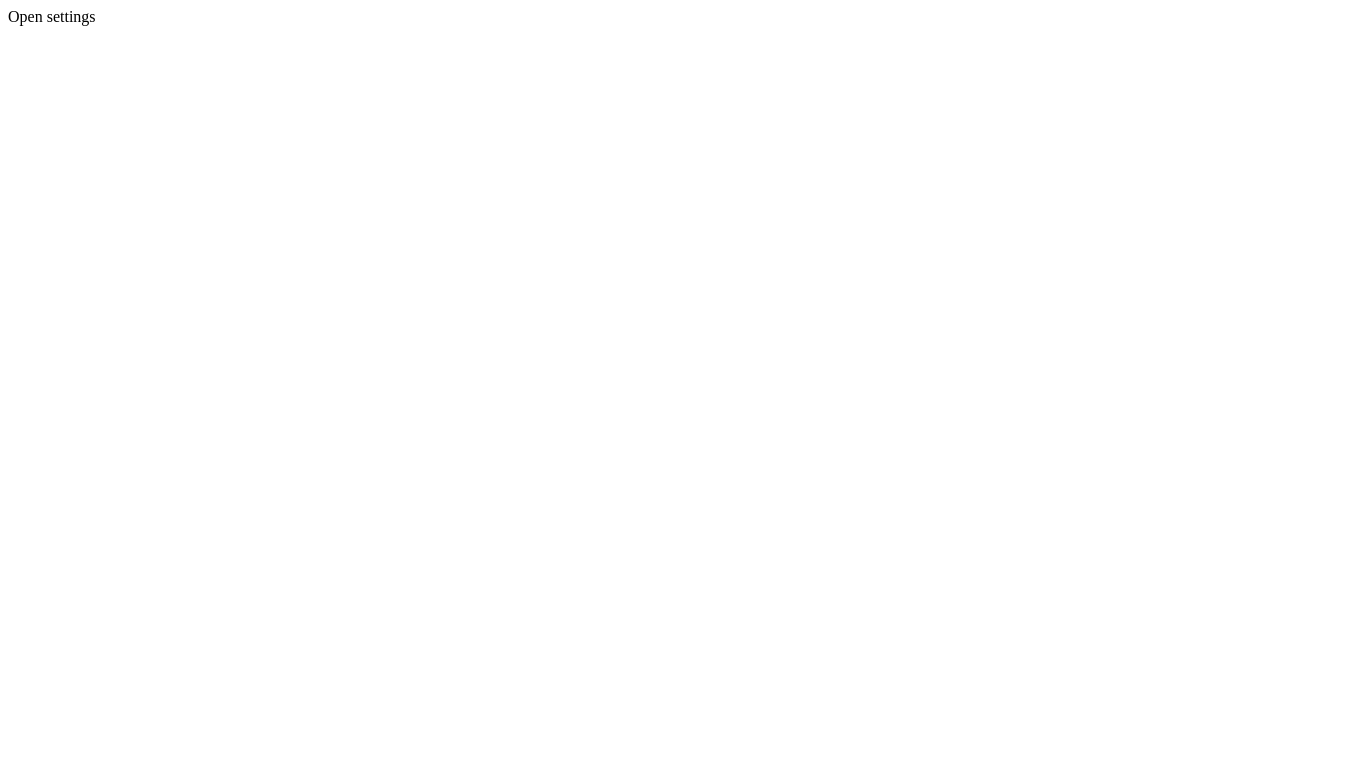
Test: Dialog › opens from its trigger with an accessible name and description
Click the button "Open settings": (52, 17) [8,8,96,26]
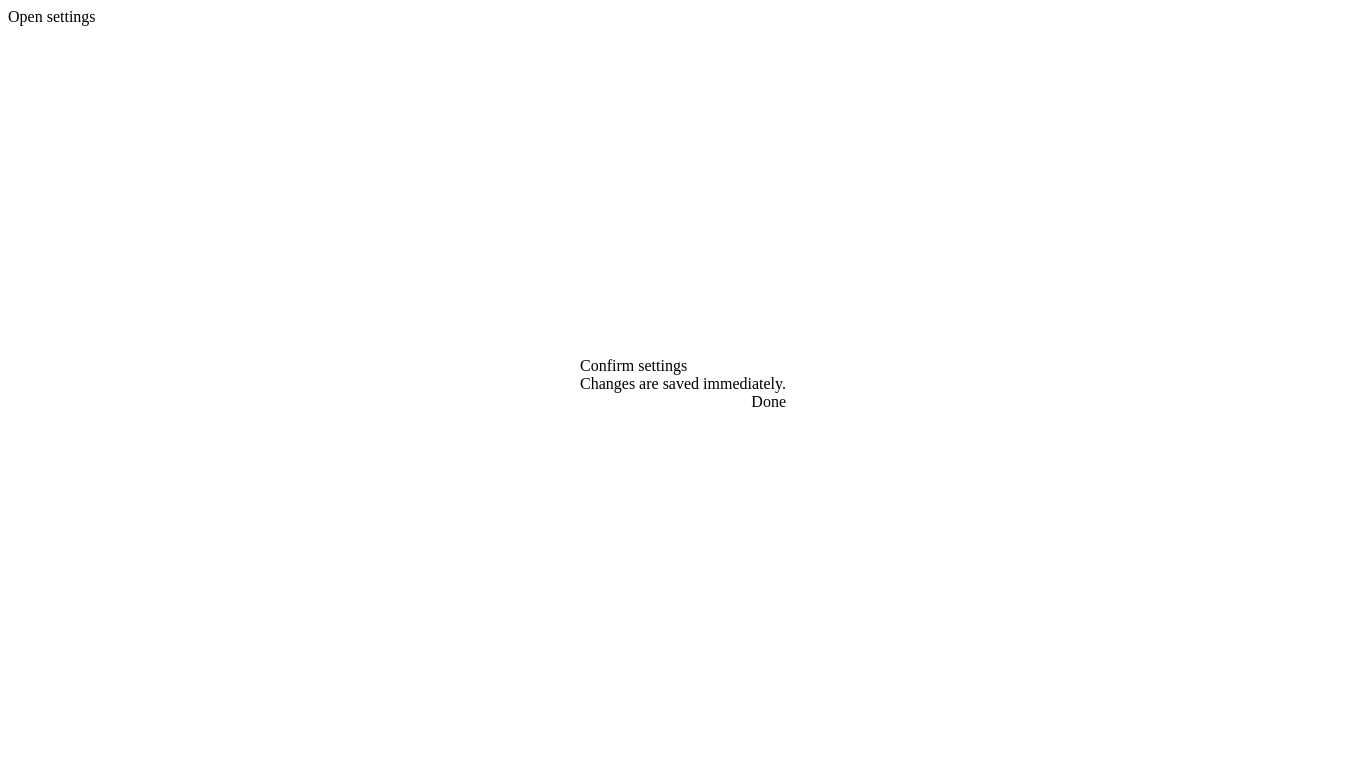
expect the dialog "Confirm settings" is shown: met, box [580,357,786,411]
expect the text "Changes are saved immediately." is shown: met, box [580,375,786,393]
